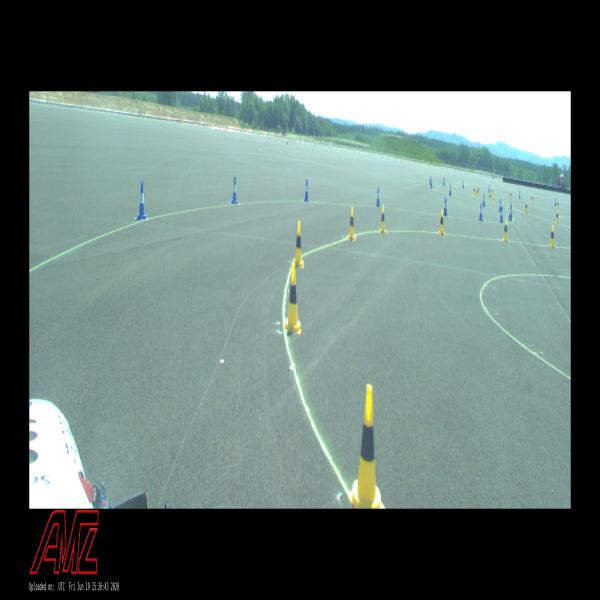blue_cone: (136, 182, 147, 219), (231, 177, 238, 203), (304, 180, 309, 201), (443, 197, 447, 216), (376, 187, 380, 206), (508, 204, 512, 221), (478, 204, 482, 221), (500, 206, 503, 222), (483, 194, 485, 207), (499, 200, 501, 211), (430, 178, 432, 189), (449, 185, 451, 195), (442, 177, 444, 186), (430, 176, 432, 185), (519, 190, 521, 198), (488, 186, 490, 193), (511, 203, 512, 217), (463, 180, 464, 188), (555, 198, 556, 206)
yellow_cone: (347, 385, 384, 508), (284, 264, 301, 334), (294, 221, 304, 267), (348, 207, 356, 240), (380, 205, 386, 233), (549, 226, 555, 247), (439, 210, 444, 235), (503, 218, 508, 242), (556, 210, 558, 223), (525, 201, 527, 212), (476, 187, 478, 197), (489, 192, 491, 202), (473, 186, 475, 194), (557, 200, 559, 208), (532, 195, 533, 203), (478, 186, 479, 194), (510, 191, 511, 199), (492, 188, 493, 195)
